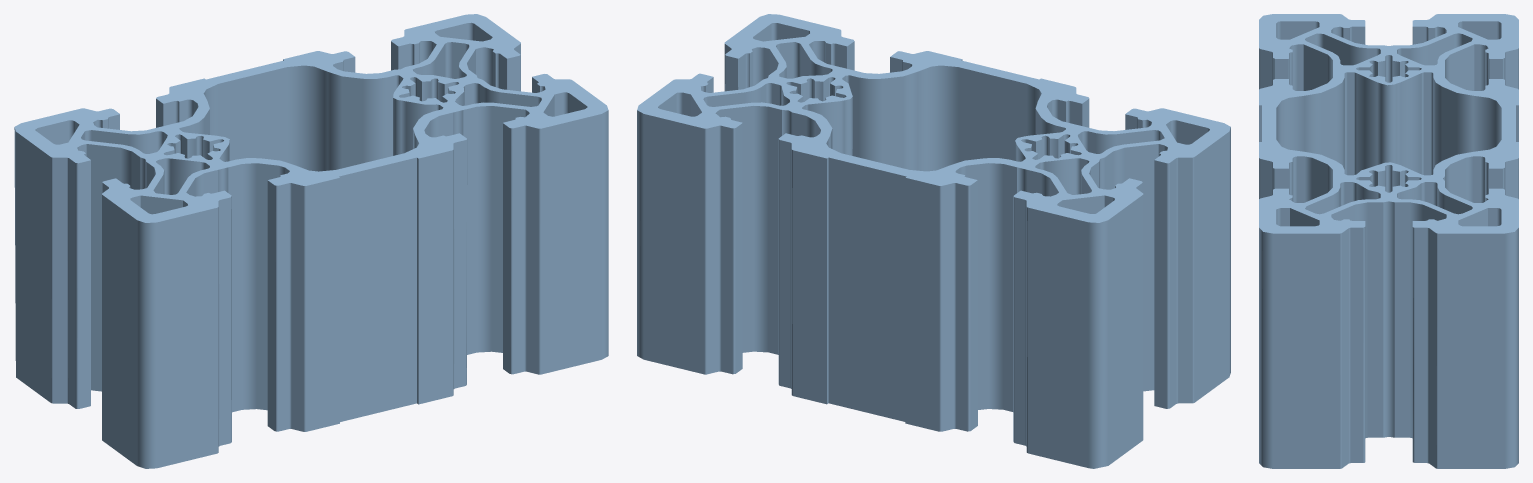
The model's file is ST_EXT_002_0045.gltf.
3 views of the same model, side by side, from view 1: azimuth 30°, elevation 25°; view 2: azimuth 150°, elevation 25°; view 3: azimuth 270°, elevation 25° (orthographic). The views are drawn at different scales.
Size of the model in its own units: 0.09 by 0.045 by 0.045.
